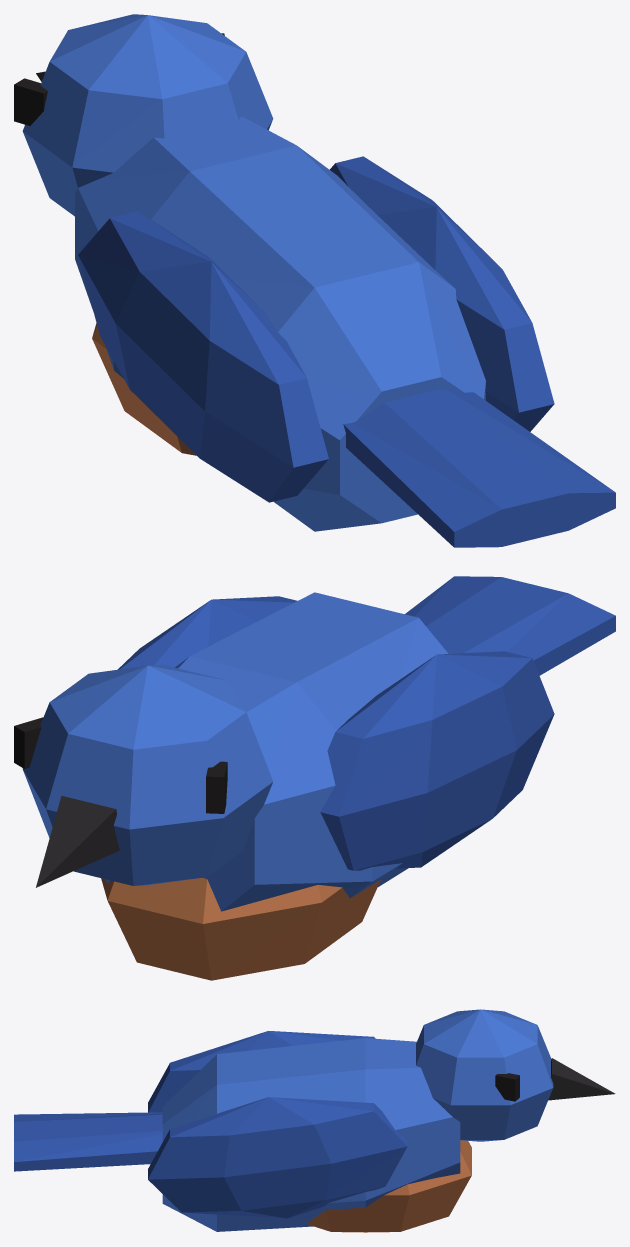
Rendered from animal_bluebird.obj.
3 views of the same model, one above another, from view 1: azimuth 30°, elevation 25°; view 2: azimuth 150°, elevation 25°; view 3: azimuth 270°, elevation 25° (orthographic). The views are drawn at different scales.
Parts seen in each view (by area): view 1: animal_bluebird; view 2: animal_bluebird; view 3: animal_bluebird.
Part boxes in pixels (box(x1,y1,x2,y2)): animal_bluebird: box(14, 14, 615, 547); animal_bluebird: box(14, 576, 615, 980); animal_bluebird: box(14, 1009, 615, 1232).
Bounding box in the file's own units: 0.1412 × 0.1601 × 0.3916.
